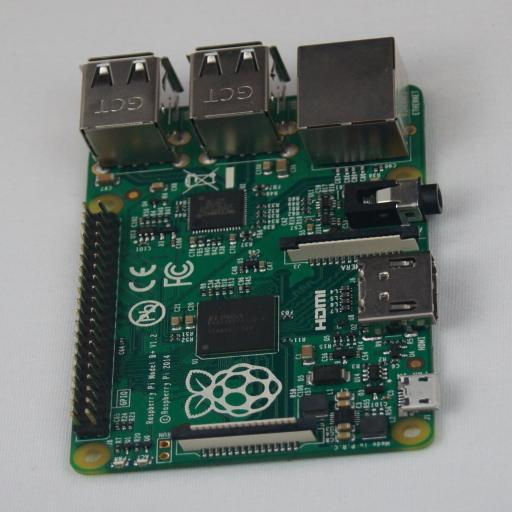Raspberry Pi 1 B-: (71, 37, 440, 474)
